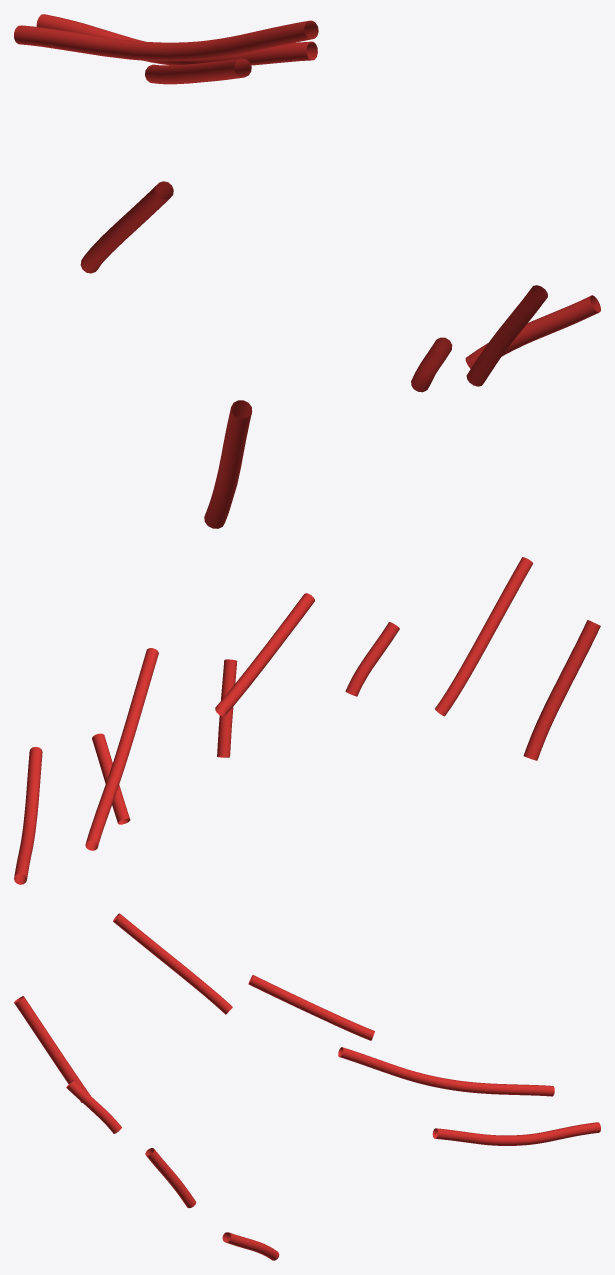
File: circulatorio-perforating-branches-of-plantar-metatarsal-arteries-l.glb
The picture shows the model from 3 angles, top to bottom: view 1: azimuth 30°, elevation 25°; view 2: azimuth 150°, elevation 25°; view 3: azimuth 270°, elevation 25°; orthographic projection. The views are drawn at different scales.
Visible parts, largest first — view 1: Perforating branches of plantar metatarsal arteries.l; view 2: Perforating branches of plantar metatarsal arteries.l; view 3: Perforating branches of plantar metatarsal arteries.l.
Part boxes in pixels (x1=…): Perforating branches of plantar metatarsal arteries.l: x1=14, y1=14, x2=600, y2=528; Perforating branches of plantar metatarsal arteries.l: x1=14, y1=557, x2=600, y2=884; Perforating branches of plantar metatarsal arteries.l: x1=14, y1=913, x2=600, y2=1260.
Bounding box in the file's own units: 0.0401 × 0.0277 × 0.0658.
